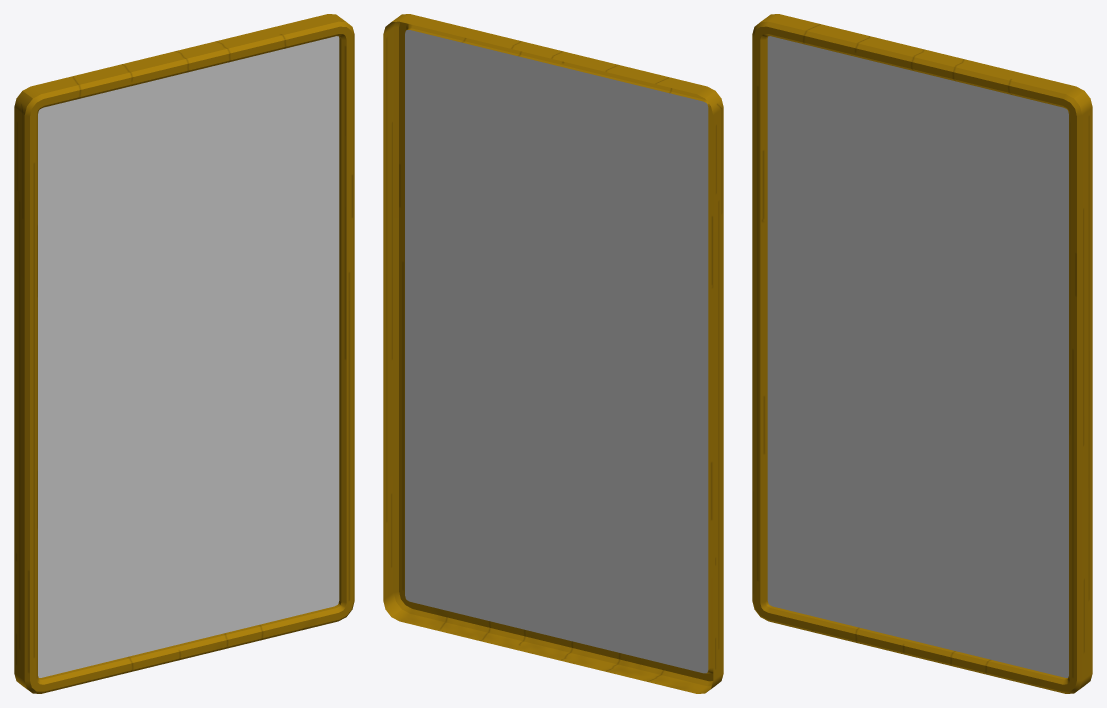
The model's file is miror_1.fbx.
3 views of the same model, side by side, from view 1: azimuth 30°, elevation 25°; view 2: azimuth 150°, elevation 25°; view 3: azimuth 330°, elevation 25° (orthographic).
Visible parts, largest first — view 1: miror_1; view 2: miror_1; view 3: miror_1.
Boxes of the visible parts, x1,y1,x2,y2 form: miror_1: [14, 14, 354, 693]; miror_1: [383, 14, 723, 693]; miror_1: [752, 14, 1092, 693].
Size of the model in its own units: 34.6 by 60.08 by 2.27.
1 material, 1 textured.
